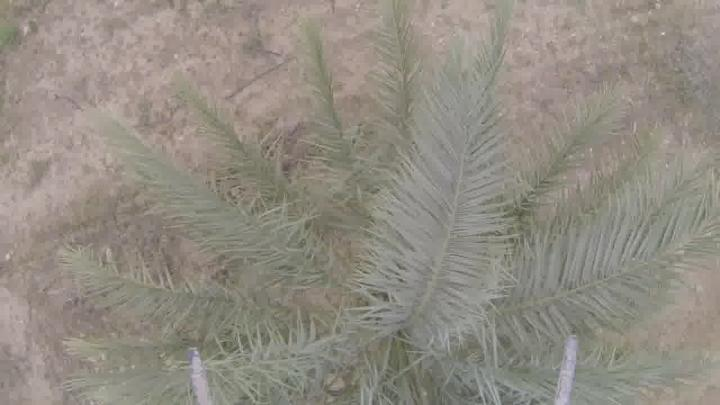Date-Palm-Crown: (193, 137, 564, 405)
